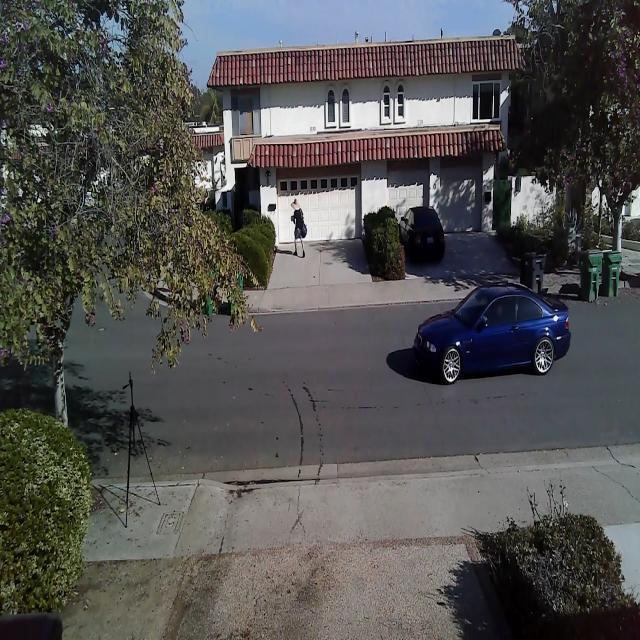Carbeetle: (409, 276, 577, 390)
Civilian: (399, 205, 445, 263)
